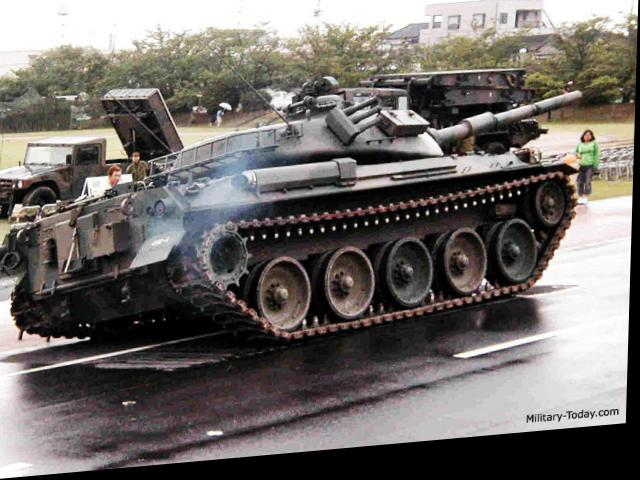other: (571, 136, 606, 193), (126, 147, 146, 183), (106, 165, 123, 193)
tank: (32, 89, 575, 348)
